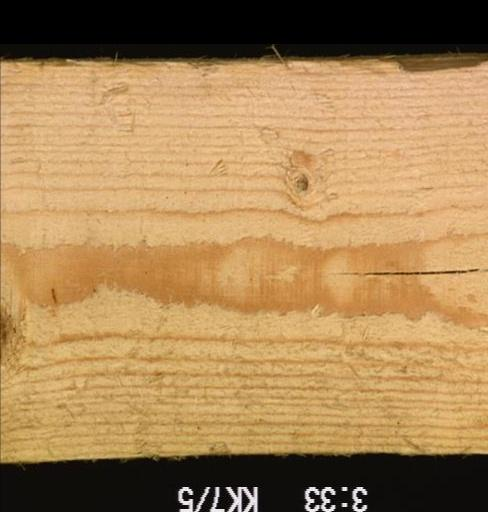sound_knot: (272, 145, 332, 211), (0, 259, 35, 370)
split: (328, 264, 486, 289)
wave: (244, 49, 479, 77)
